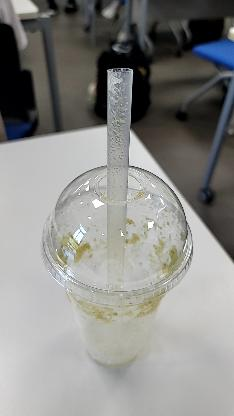Plastic Cup: (40, 165, 194, 370)
